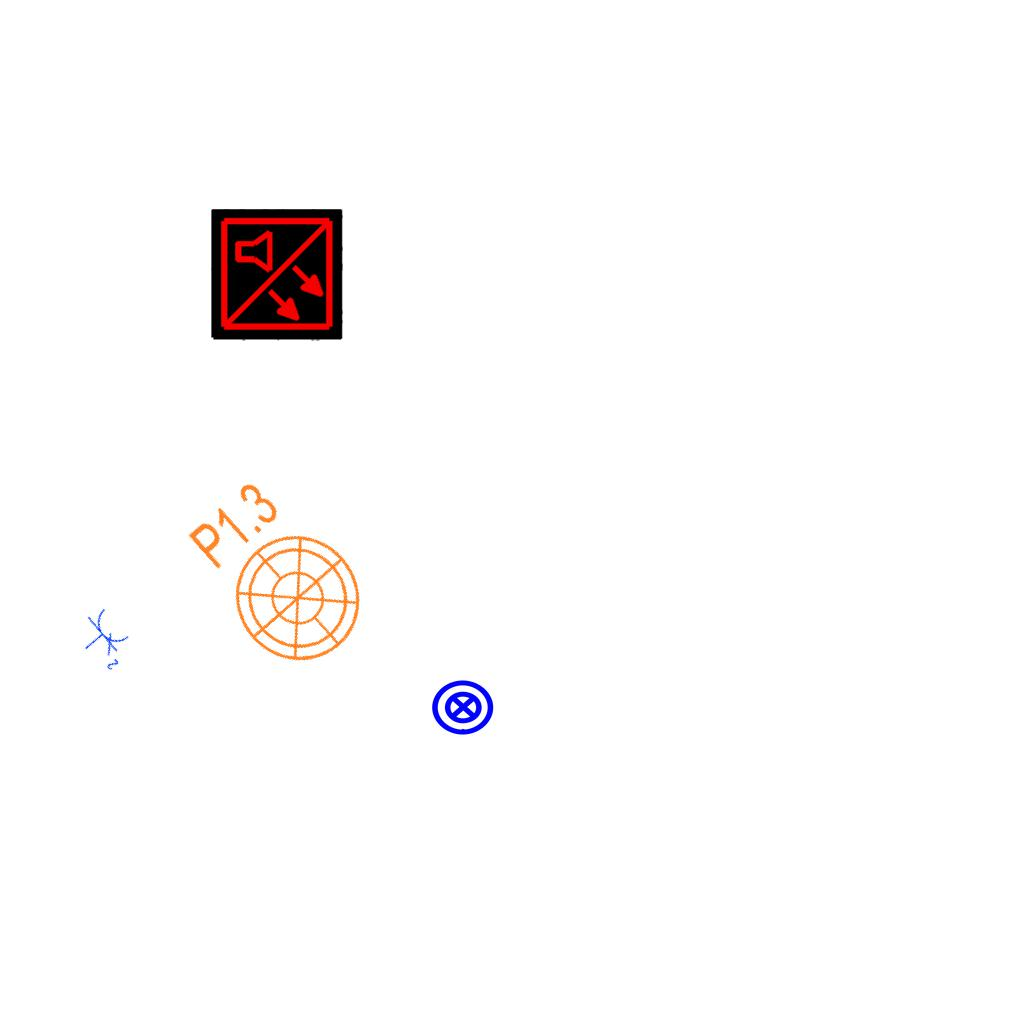Aufbaurundleuchte_LED_Treppenhaus: (158, 444, 399, 691)
OKW_Multisensormelder_(Kombination_optischer_Rauch-Kahlenmonoxid_Waerme-Melder): (211, 209, 343, 341)
Schukosteckdose_mehrfach: (69, 602, 143, 678)
Taster_beleuchtet: (430, 674, 496, 740)
